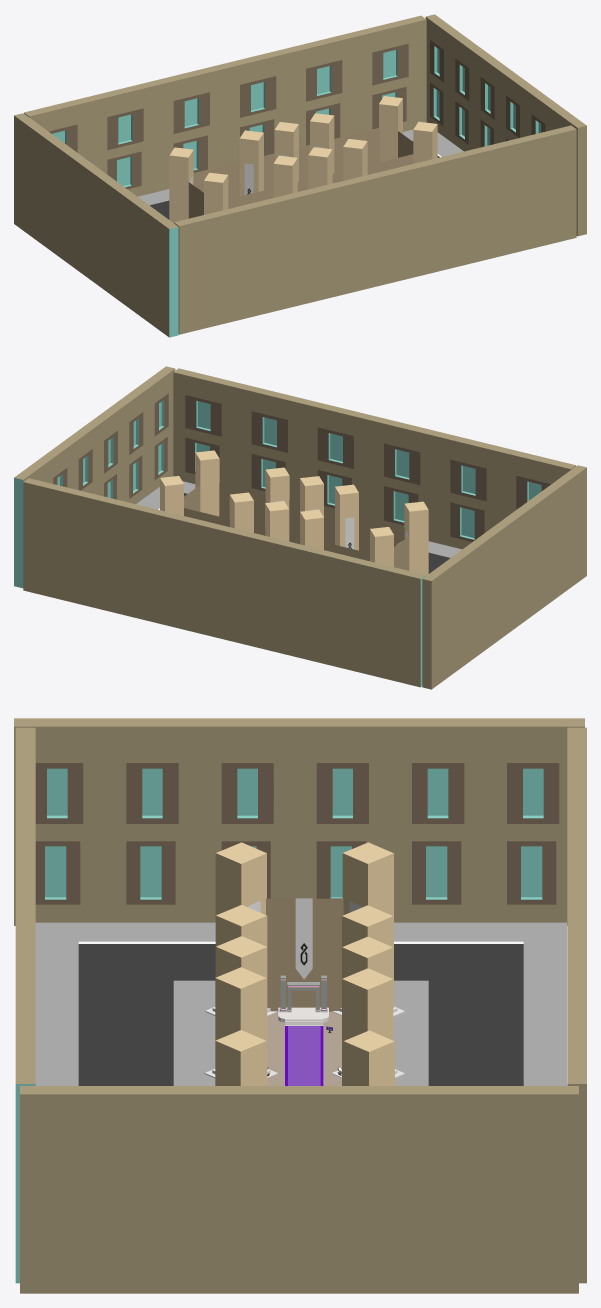
The model's file is lobby.glb.
The picture shows the model from 3 angles, top to bottom: view 1: azimuth 30°, elevation 25°; view 2: azimuth 150°, elevation 25°; view 3: azimuth 270°, elevation 25°; orthographic projection. The views are drawn at different scales.
Parts seen in each view (by area): view 1: Cube.043, Cube.042, Cube.044, Cube.045, Plane, Cube.005, Cube.009, Cube.006, Cube.002, Cube.004, colummna.001, Cube.003 (+4 smaller); view 2: Cube.042, Cube.043, Cube.044, Cube.045, Plane, Cube.004, colummna.001, Cube.003, Cube.007, colummna, Cube.006, Cube.005 (+4 smaller); view 3: Cube.045, Cube.044, Plane.011, Plane.015, Cube.042, Cube.043, Plane.014, Plane, colummna, Cube.005, colummna.002, Cube.004 (+10 smaller).
Boxes of the visible parts, bbox=[...] form: Cube.043: bbox=[174, 125, 576, 334]; Cube.042: bbox=[24, 15, 426, 196]; Cube.044: bbox=[14, 113, 178, 337]; Cube.045: bbox=[425, 14, 586, 236]; Plane: bbox=[188, 128, 413, 218]; Cube.005: bbox=[169, 147, 193, 222]; Cube.009: bbox=[379, 96, 402, 161]; Cube.006: bbox=[239, 130, 263, 196]; Cube.002: bbox=[308, 147, 332, 189]; Cube.004: bbox=[204, 172, 228, 214]; colummna.001: bbox=[413, 121, 437, 163]; Cube.003: bbox=[273, 155, 297, 197]; Cube.042: bbox=[23, 478, 425, 687]; Cube.043: bbox=[173, 368, 575, 549]; Cube.044: bbox=[422, 465, 586, 689]; Cube.045: bbox=[14, 366, 175, 588]; Plane: bbox=[184, 483, 409, 570]; Cube.004: bbox=[404, 501, 428, 575]; colummna.001: bbox=[195, 450, 219, 516]; Cube.003: bbox=[335, 484, 358, 550]; Cube.007: bbox=[265, 501, 289, 541]; colummna: bbox=[229, 492, 253, 532]; Cube.006: bbox=[300, 509, 323, 549]; Cube.005: bbox=[370, 527, 393, 566]; Cube.045: bbox=[20, 1086, 578, 1293]; Cube.044: bbox=[14, 718, 584, 925]; Plane.011: bbox=[78, 944, 523, 1085]; Plane.015: bbox=[35, 922, 566, 1085]; Cube.042: bbox=[567, 727, 586, 1283]; Cube.043: bbox=[15, 727, 35, 1283]; Plane.014: bbox=[173, 980, 428, 1085]; Plane: bbox=[266, 898, 343, 1011]; colummna: bbox=[342, 968, 393, 1085]; Cube.005: bbox=[342, 842, 393, 1007]; colummna.002: bbox=[215, 967, 266, 1040]; Cube.004: bbox=[215, 842, 266, 977].
Bounding box in the file's own units: 89.74 × 22.44 × 57.8.
40 materials, 10 textured.
